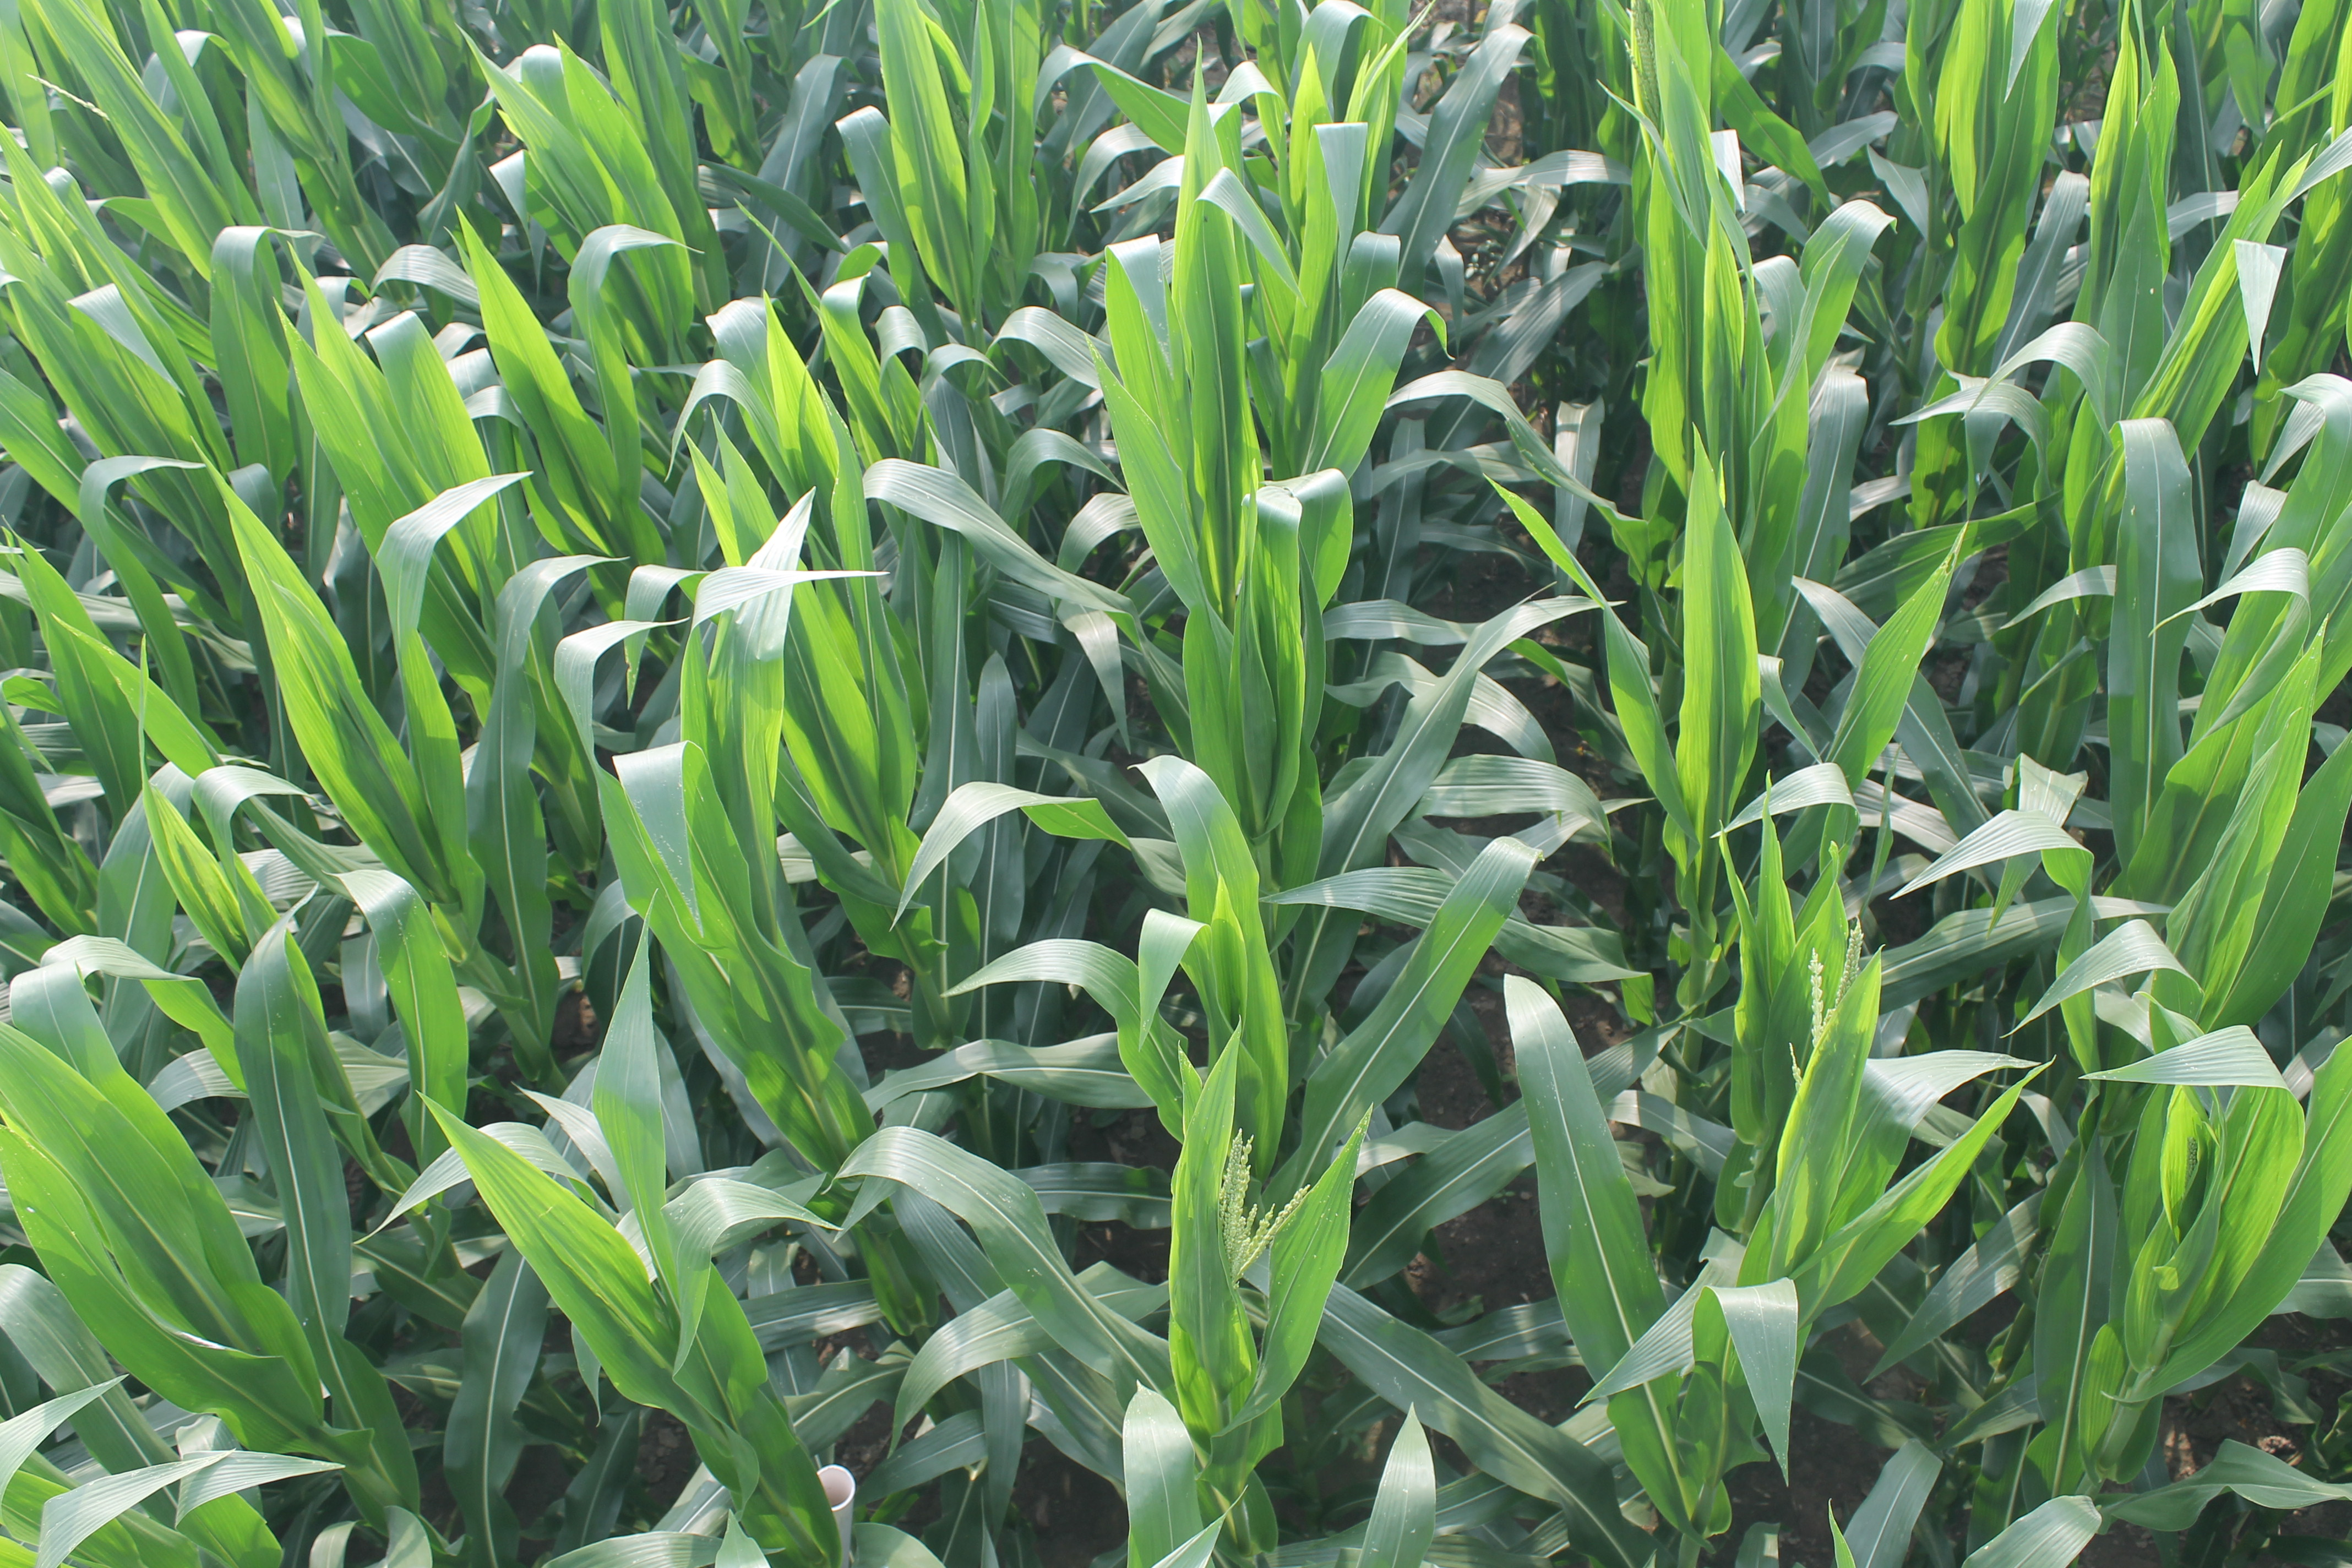Maize: (1221, 1130, 1307, 1277), (1801, 927, 1858, 1046)
